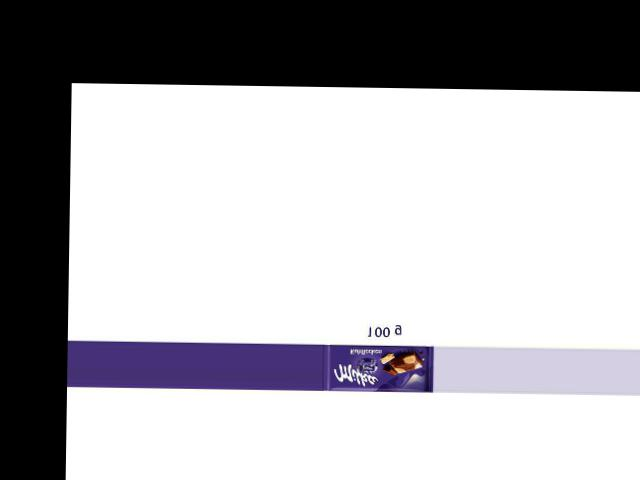chocolate: (323, 337, 435, 393)
